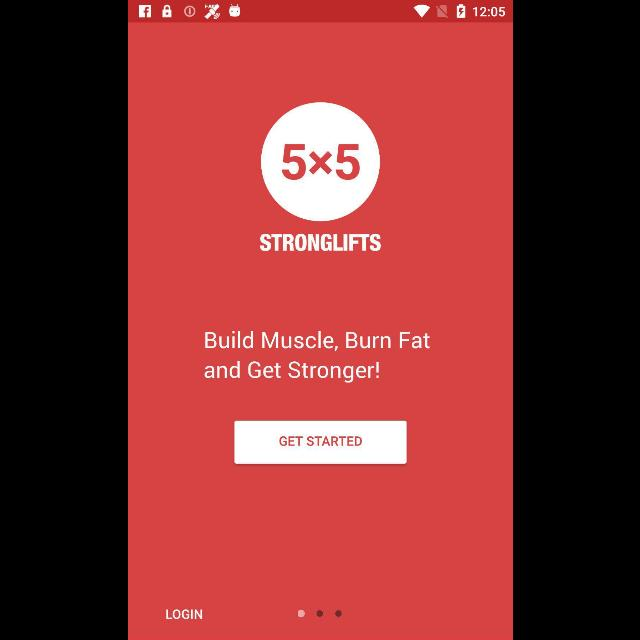image: (260, 102, 380, 222)
pageindicator: (297, 609, 341, 617)
text: (203, 331, 429, 383), (260, 234, 380, 252), (166, 609, 202, 619)
textbutton: (234, 421, 406, 464)
uppertaskbar: (128, 1, 512, 23)
